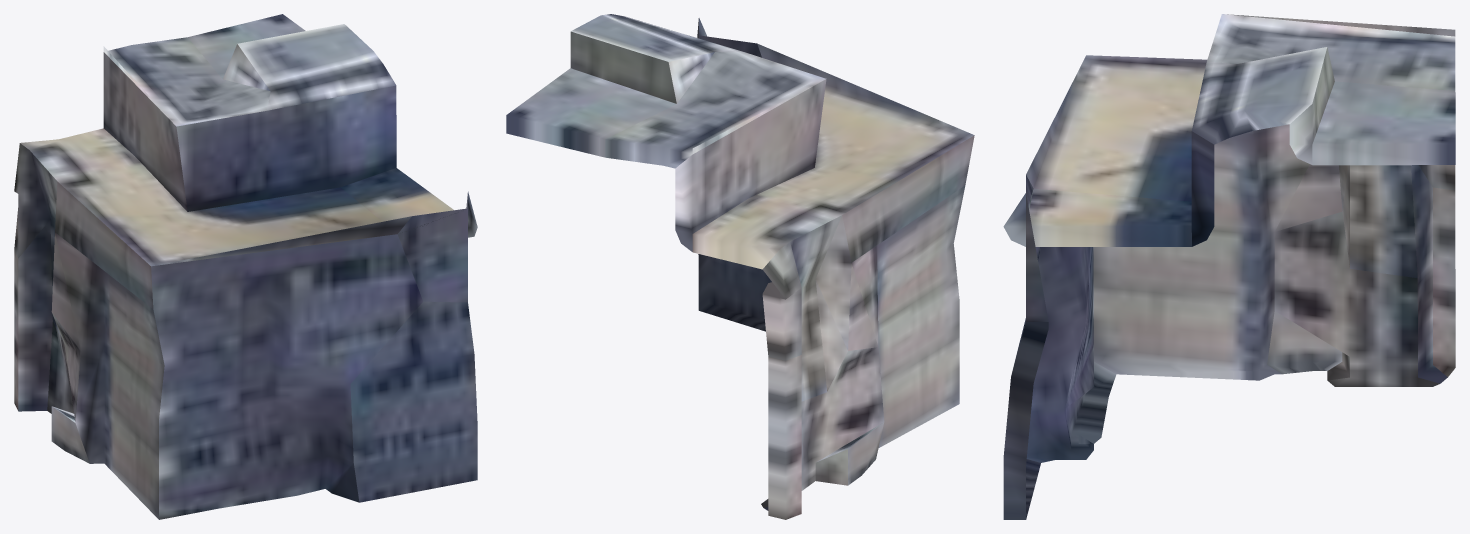
The picture shows the model from 3 angles, left to right: view 1: azimuth 30°, elevation 25°; view 2: azimuth 150°, elevation 25°; view 3: azimuth 270°, elevation 25°; orthographic projection. The views are drawn at different scales.
Visible parts, largest first — view 1: 3043627270437060764_0; view 2: 3043627270437060764_0; view 3: 3043627270437060764_0.
Boxes of the visible parts, <box> form: 3043627270437060764_0: <box>14,14,477,519</box>; 3043627270437060764_0: <box>506,14,974,519</box>; 3043627270437060764_0: <box>1003,14,1455,519</box>.
Size of the model in its own units: 15.96 by 18.8 by 18.51.
Materials: 1 (1 with a texture image).
